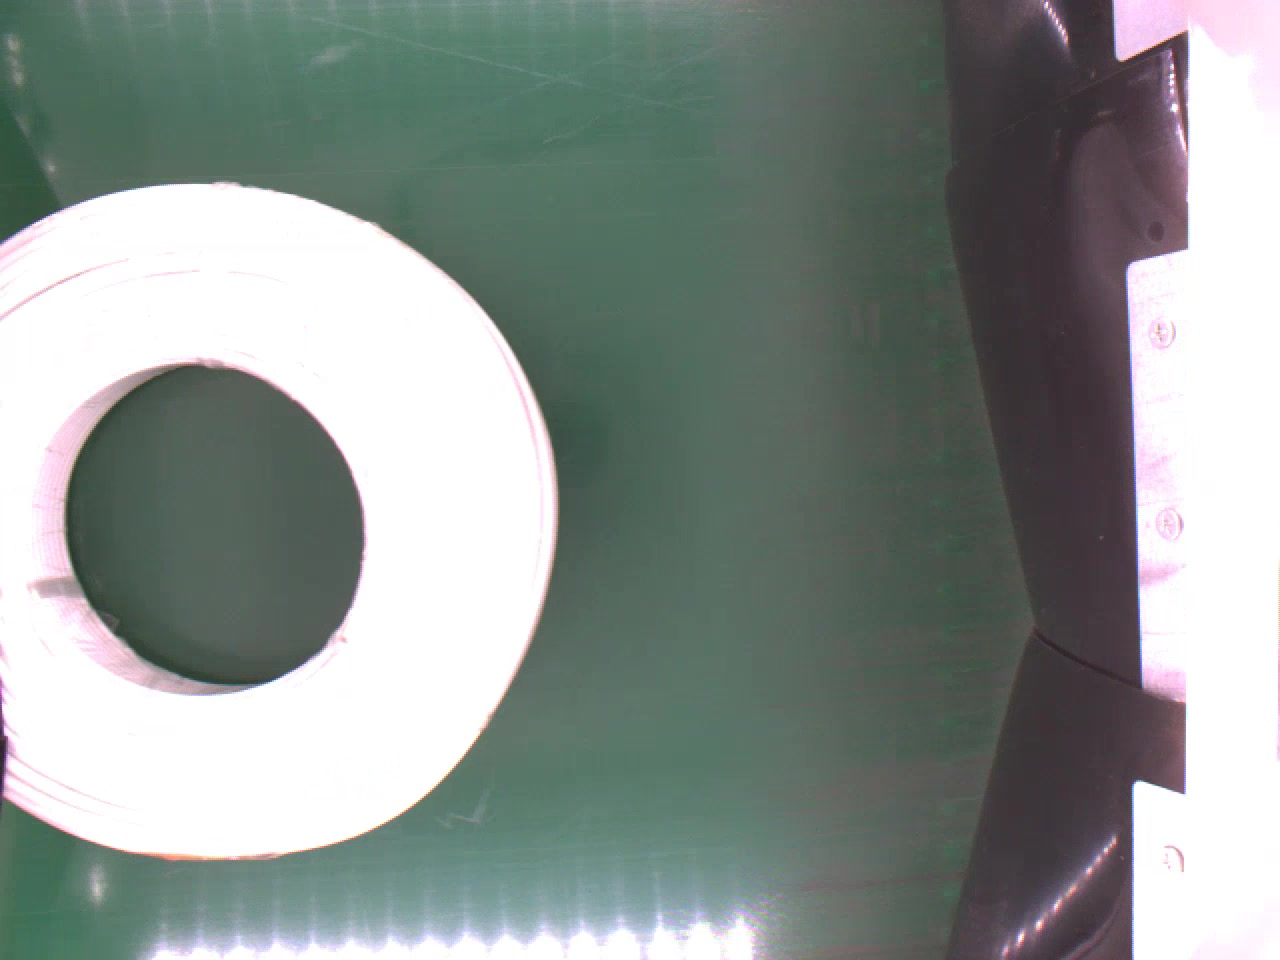white: (0, 177, 557, 864)
